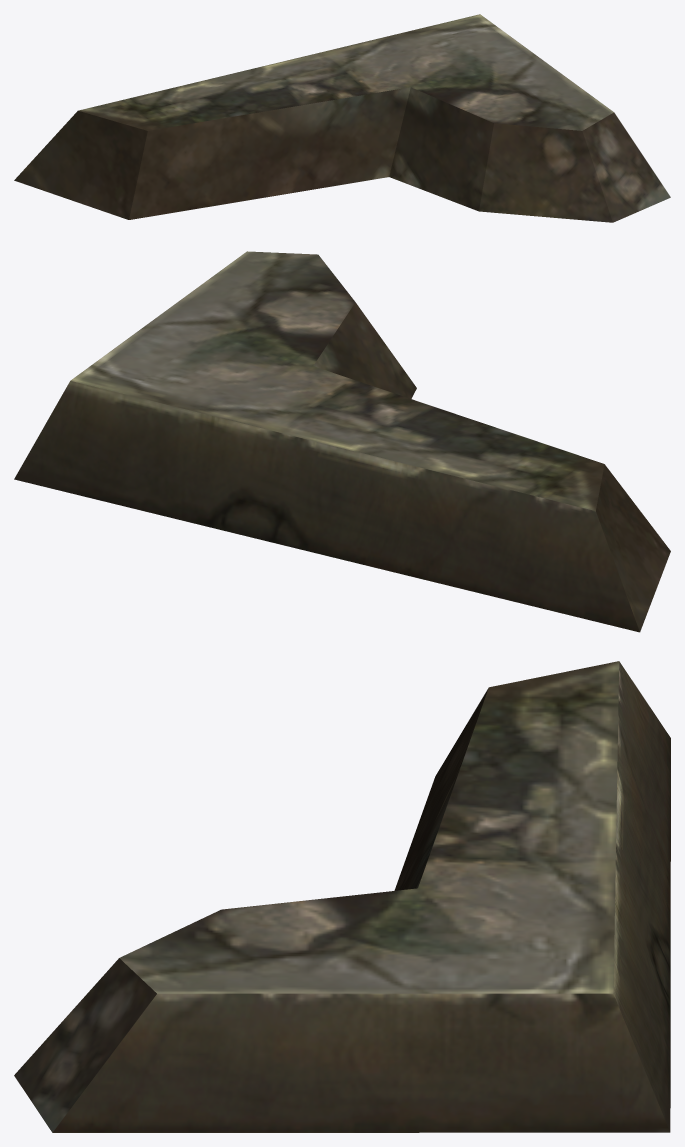
The model's file is F_dizhuan013.fbx.
3 views of the same model, one above another, from view 1: azimuth 30°, elevation 25°; view 2: azimuth 150°, elevation 25°; view 3: azimuth 270°, elevation 25° (orthographic). The views are drawn at different scales.
Visible parts, largest first — view 1: F_dizhuan013; view 2: F_dizhuan013; view 3: F_dizhuan013.
Part boxes in pixels (box(x1,y1,x2,y2)): F_dizhuan013: box(14, 14, 670, 222); F_dizhuan013: box(14, 251, 670, 632); F_dizhuan013: box(14, 661, 670, 1132).
Size of the model in its own units: 116 by 16.12 by 81.48.
